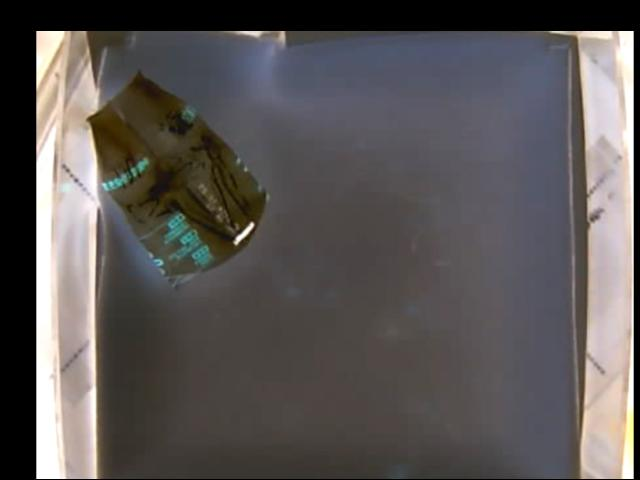Bottle: (84, 73, 267, 284)
